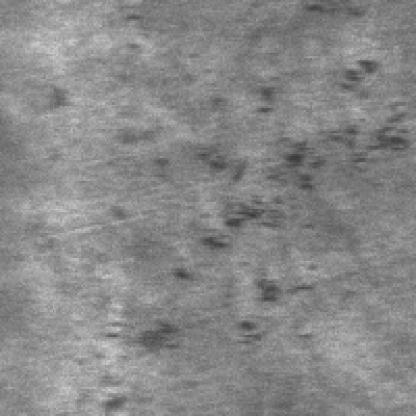rolled-in_scale: (129, 120, 399, 354)
